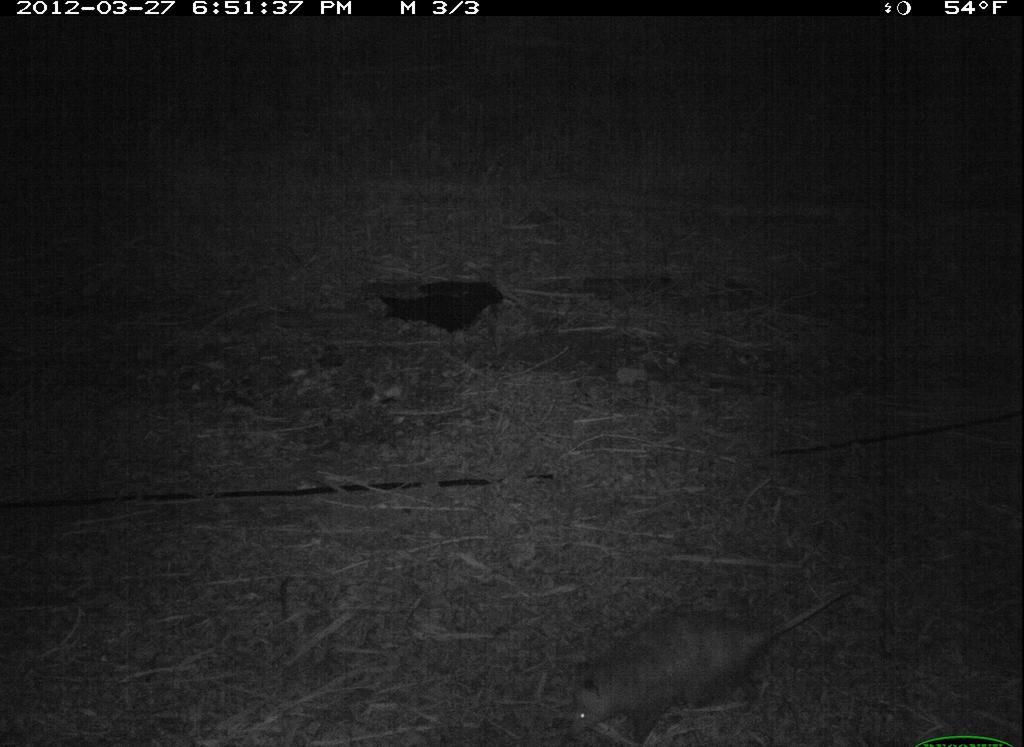opossum: (562, 569, 863, 747)
